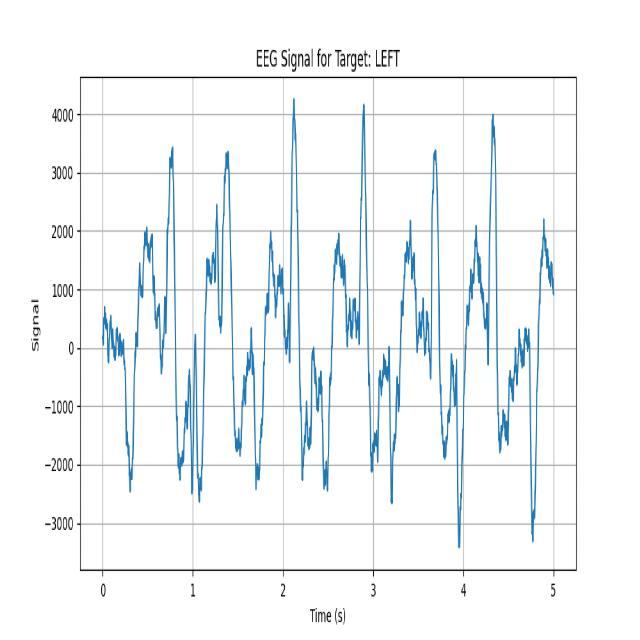LEFT: (454, 82, 523, 561), (110, 115, 191, 518), (190, 117, 266, 528), (384, 88, 454, 524), (318, 86, 383, 526), (266, 86, 320, 512)
